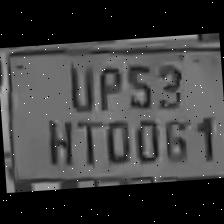0: (98, 111, 132, 165), (128, 110, 160, 162)
1: (188, 110, 218, 160)
3: (152, 57, 184, 106)
5: (120, 55, 154, 109)
6: (159, 113, 191, 162)
H: (39, 112, 74, 166)
P: (92, 59, 124, 111)
T: (71, 113, 101, 167)
U: (60, 57, 96, 112)
